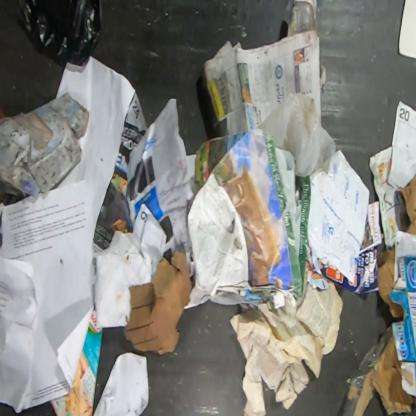cardboard: (0, 92, 90, 204), (306, 149, 370, 284), (123, 250, 192, 356), (348, 334, 415, 415), (388, 254, 415, 398), (378, 246, 404, 318), (396, 172, 415, 235)
rigid_plastic: (15, 0, 102, 68)
soft_plastic: (257, 92, 336, 178), (349, 323, 393, 395)
